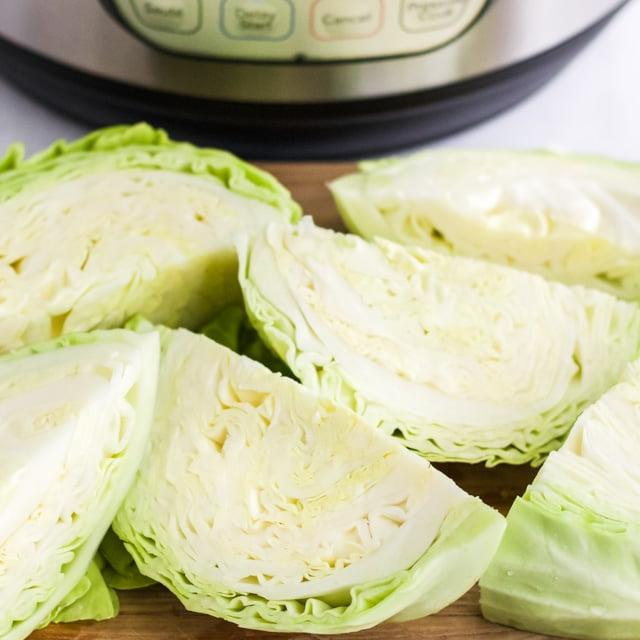cabbage: (123, 315, 512, 640), (230, 210, 640, 473), (0, 118, 311, 435), (323, 138, 640, 321), (477, 288, 640, 640), (0, 325, 171, 640)
